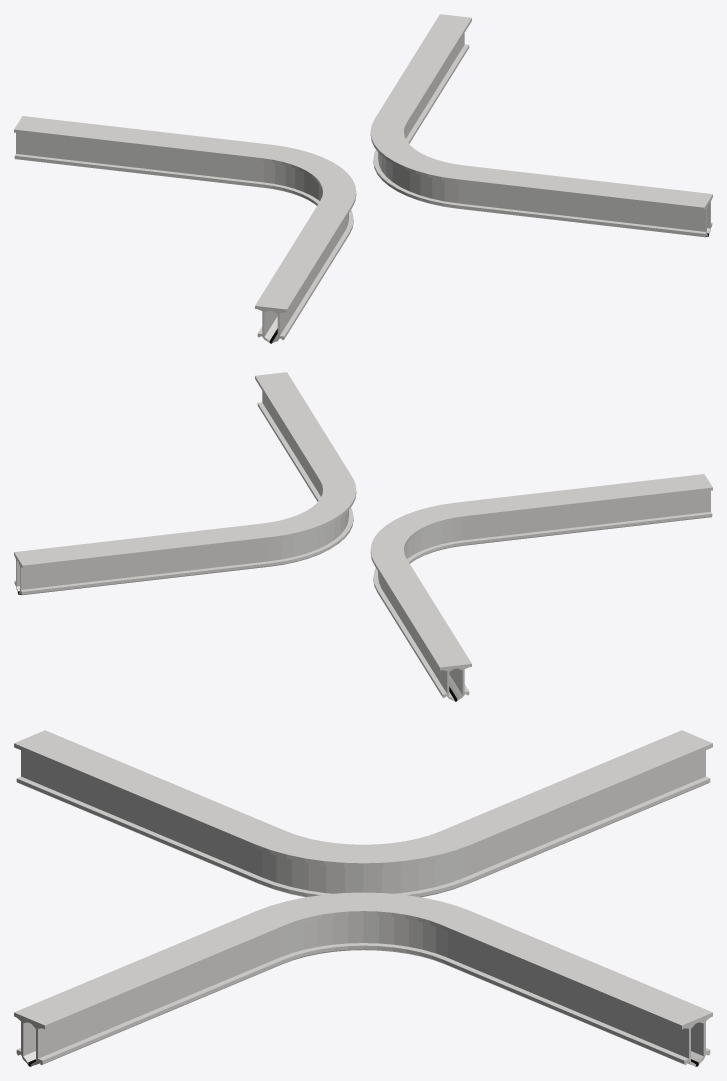
The model's file is catenary_rigid_45d_line.obj.
3 renders of one model, top to bottom at view 1: azimuth 30°, elevation 25°; view 2: azimuth 150°, elevation 25°; view 3: azimuth 270°, elevation 25°, orthographic. The views are drawn at different scales.
Visible parts, largest first — view 1: 1.004, 1.003, 1.001, 1.002; view 2: 1.002, 1.001, 1.003, 1.004; view 3: 1.002, 1.004, 1.001, 1.003.
Boxes of the visible parts, <box> form: 1.004: <box>386,149,712,237</box>; 1.003: <box>14,116,340,203</box>; 1.001: <box>255,167,356,343</box>; 1.002: <box>370,14,471,185</box>; 1.002: <box>14,507,340,595</box>; 1.001: <box>386,474,712,561</box>; 1.003: <box>370,525,471,701</box>; 1.004: <box>255,372,356,543</box>; 1.002: <box>363,892,712,1066</box>; 1.004: <box>14,892,363,1066</box>; 1.001: <box>14,730,363,897</box>; 1.003: <box>363,730,712,897</box>.
Bounding box in the file's own units: 2.98 × 0.225 × 2.98.
8 materials, 8 textured.
